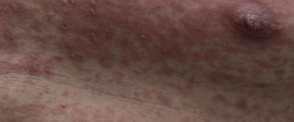SJS-TEN: (0, 0, 294, 113), (226, 0, 290, 48)
